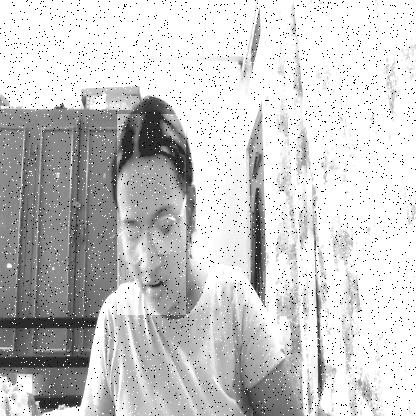Distracted: (117, 114, 186, 315)
